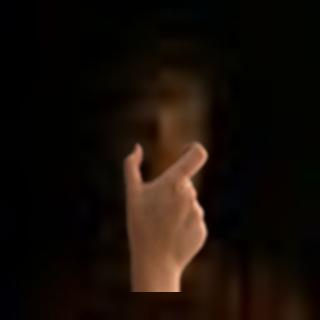Irritated: (121, 138, 212, 290)
